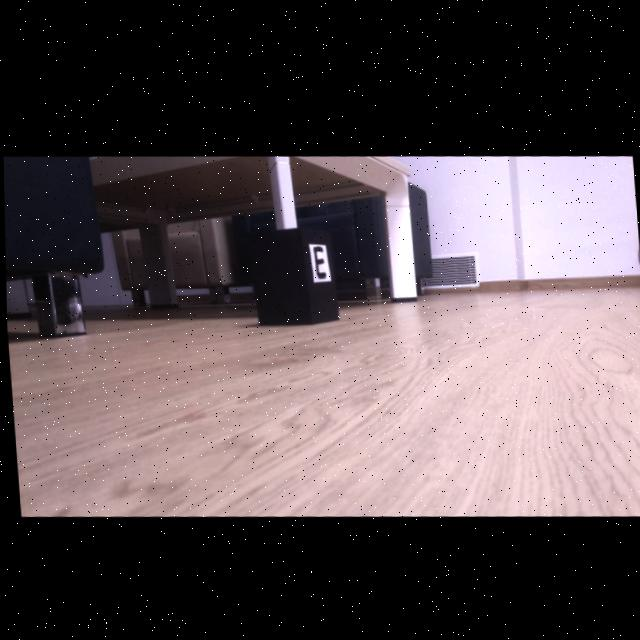E: (313, 244, 325, 274)
